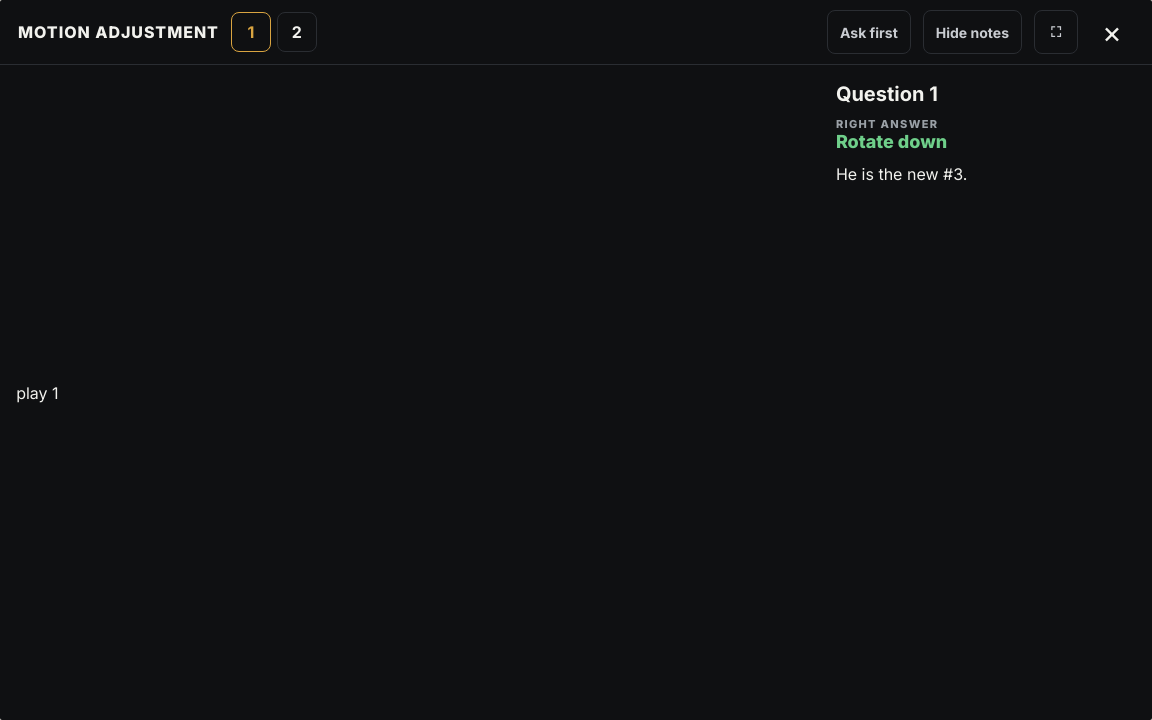
Test: Teach in the meeting room › N leaves the football alone on the screen, and brings the notes back
The image size is (1152, 720).
expect the text "He is the new #3." is shown: met, box [836,164,967,184]
Press n in the dialog named "Teach"
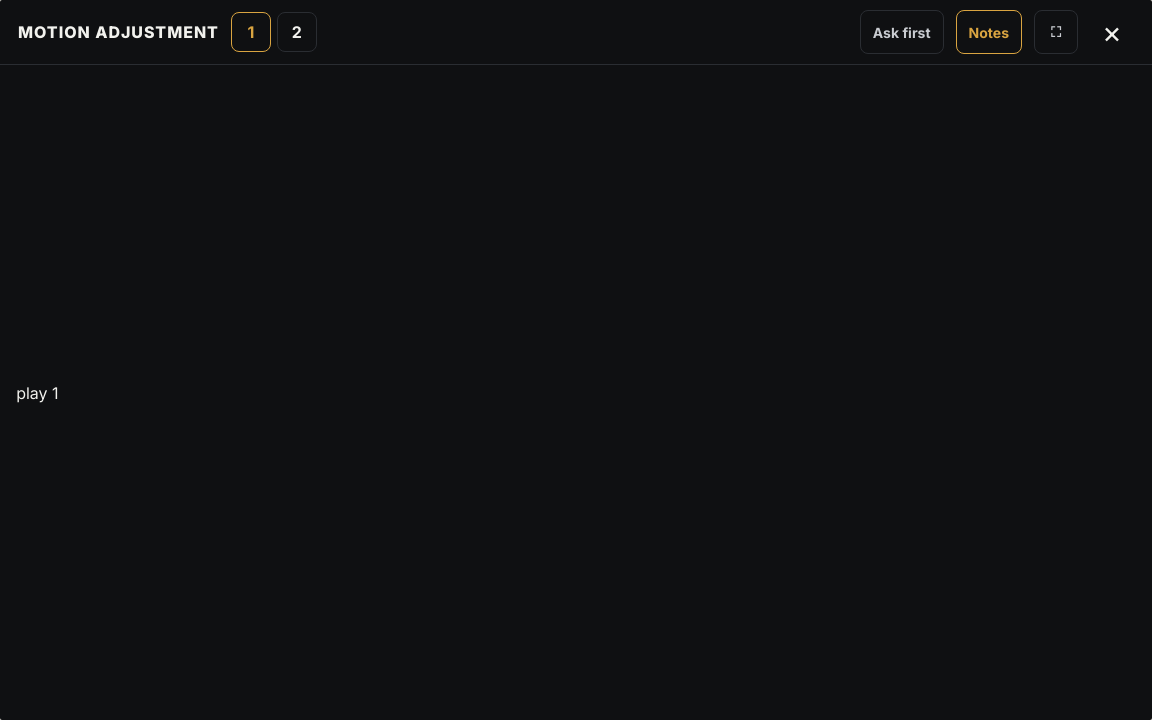
expect the text "play 1" is shown: met, box [16,382,58,402]
expect the text "He is the new #3." is gone: met
Click the button "Notes": click(989, 32) [956,10,1022,54]
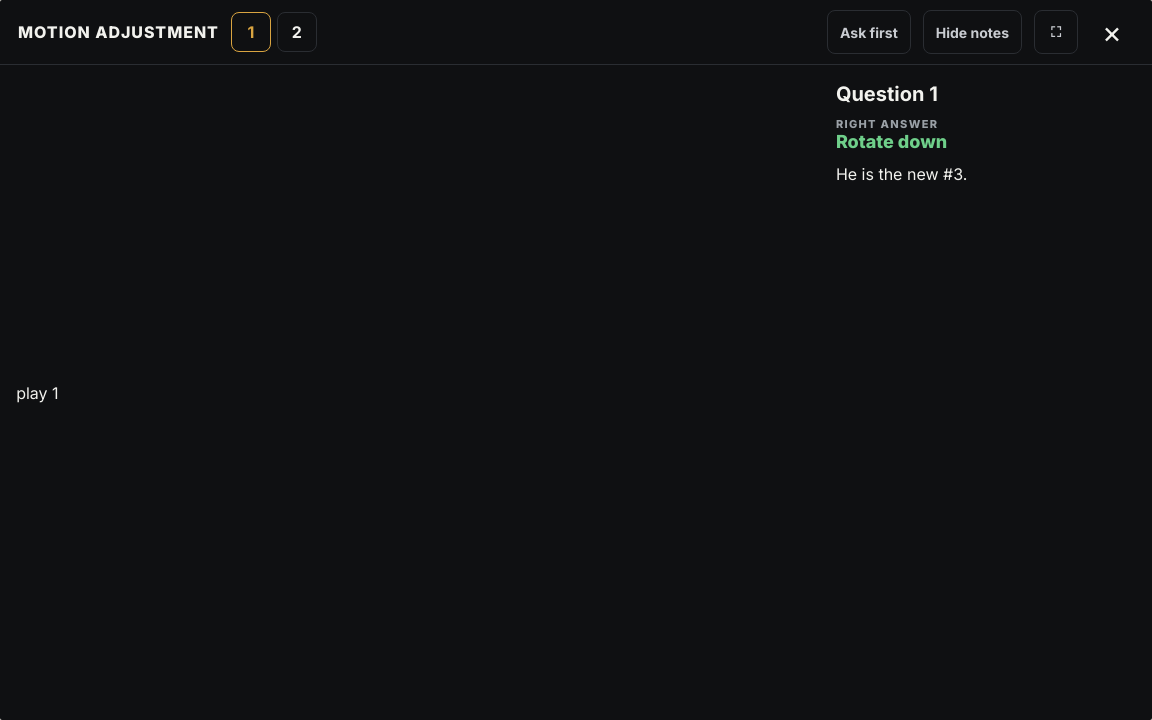
expect the text "He is the new #3." is shown: met, box [836,164,967,184]
